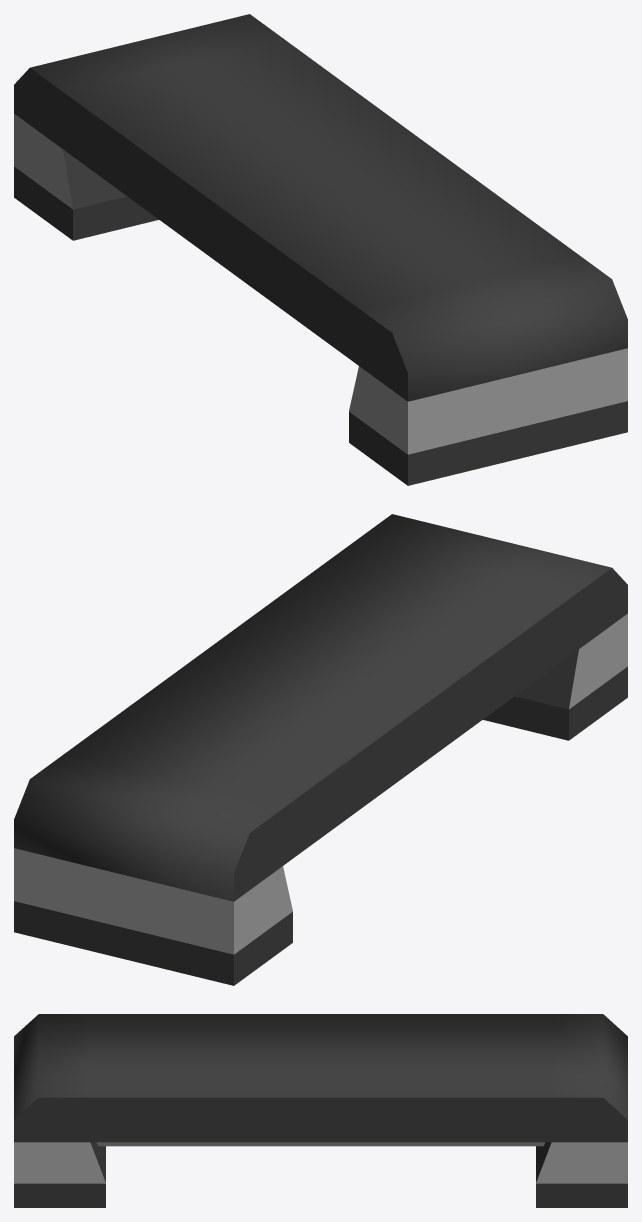
Rendered from Flat_Bench.fbx.
3 views of the same model, one above another, from view 1: azimuth 30°, elevation 25°; view 2: azimuth 150°, elevation 25°; view 3: azimuth 270°, elevation 25° (orthographic). The views are drawn at different scales.
Parts seen in each view (by area): view 1: Flat_Bench; view 2: Flat_Bench; view 3: Flat_Bench.
Boxes of the visible parts, x1,y1,x2,y2 form: Flat_Bench: (14,14,627,485); Flat_Bench: (14,514,627,985); Flat_Bench: (14,1014,627,1207).
Bounding box in the file's own units: 31.59 × 19.41 × 98.
